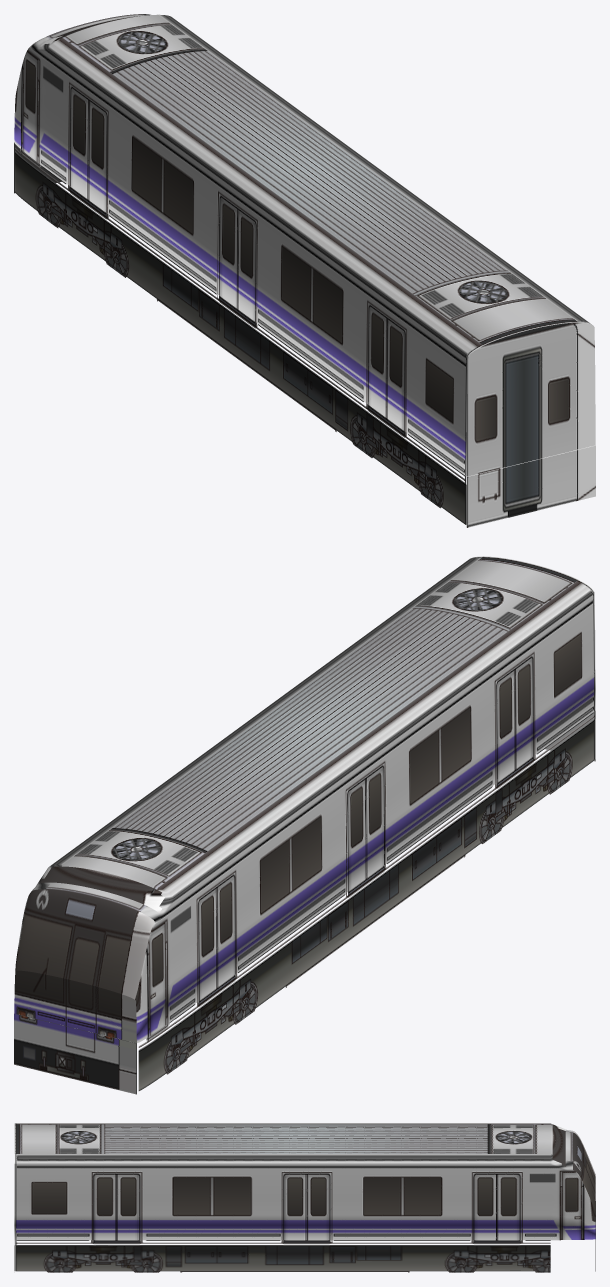
Rendered from car6.glb.
3 renders of one model, top to bottom at view 1: azimuth 30°, elevation 25°; view 2: azimuth 150°, elevation 25°; view 3: azimuth 270°, elevation 25°, orthographic. The views are drawn at different scales.
Visible parts, largest first — view 1: nagoyasub-2000-car6; view 2: nagoyasub-2000-car6; view 3: nagoyasub-2000-car6.
Part boxes in pixels (x1,y1,x2,y2): nagoyasub-2000-car6: (14, 14, 595, 527); nagoyasub-2000-car6: (14, 556, 595, 1094); nagoyasub-2000-car6: (14, 1123, 595, 1272).
Size of the model in its own units: 2.55 by 3.44 by 15.61.
9 materials, 8 textured.
